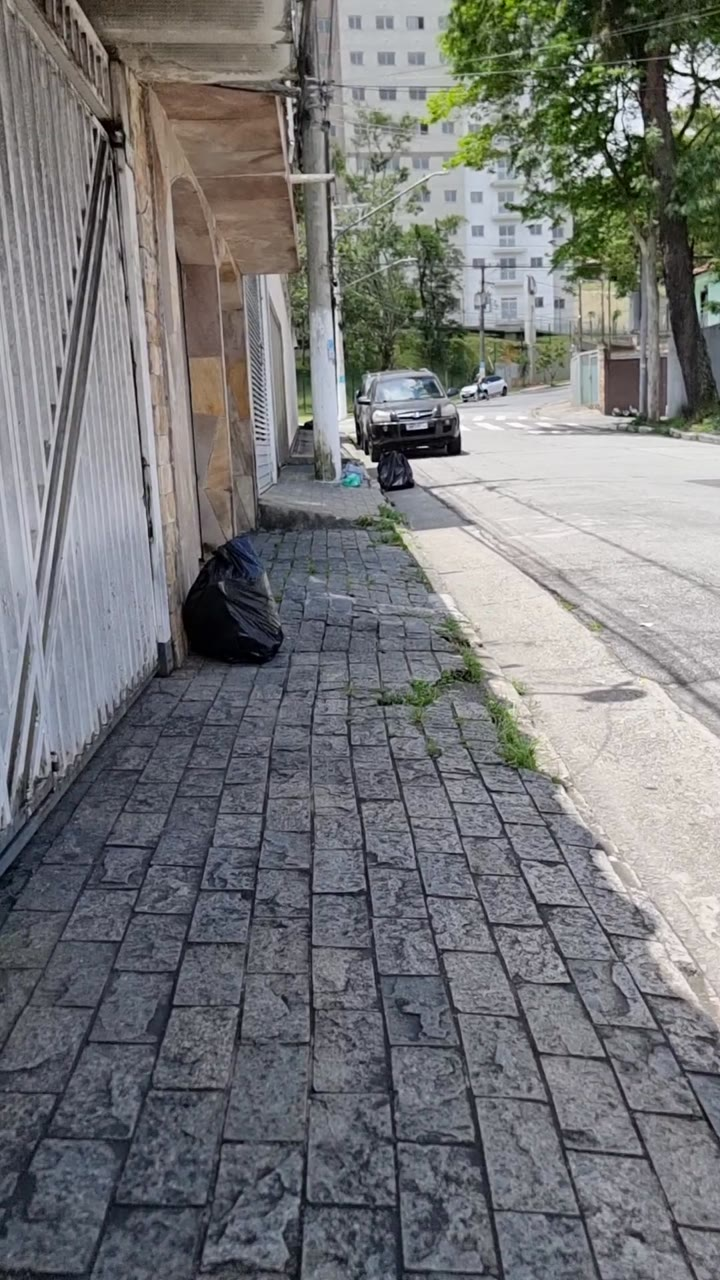obstaculo: (288, 0, 331, 435), (183, 537, 283, 664)
